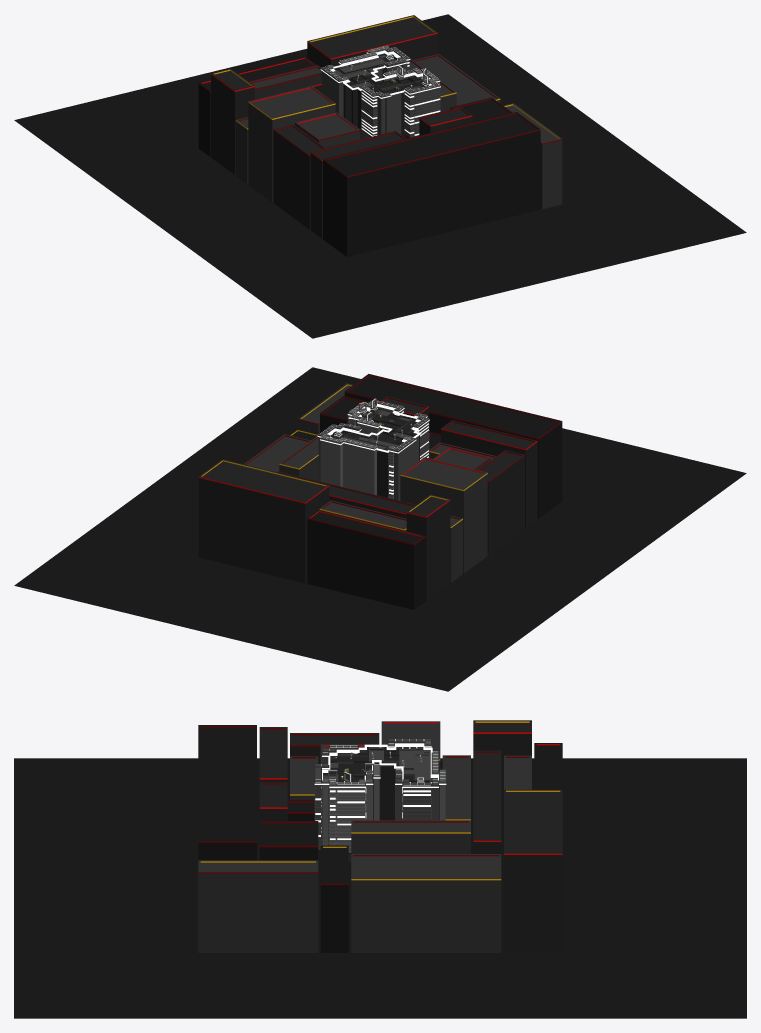
Rendered from Level1.gltf.
3 renders of one model, top to bottom at view 1: azimuth 30°, elevation 25°; view 2: azimuth 150°, elevation 25°; view 3: azimuth 270°, elevation 25°, orthographic. The views are drawn at different scales.
Visible parts, largest first — view 1: Level_generator; view 2: Level_generator; view 3: Level_generator.
Boxes of the visible parts, x1,y1,x2,y2 form: Level_generator: (14,14,746,338); Level_generator: (14,367,746,691); Level_generator: (14,720,746,1018).
Bounding box in the file's own units: 84 × 20.14 × 100.
2 materials, 1 textured.
